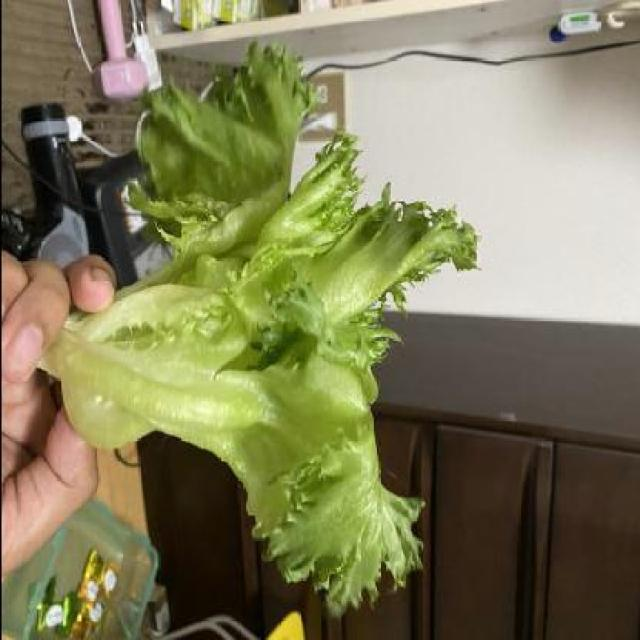Lettuce: (29, 38, 484, 606)
